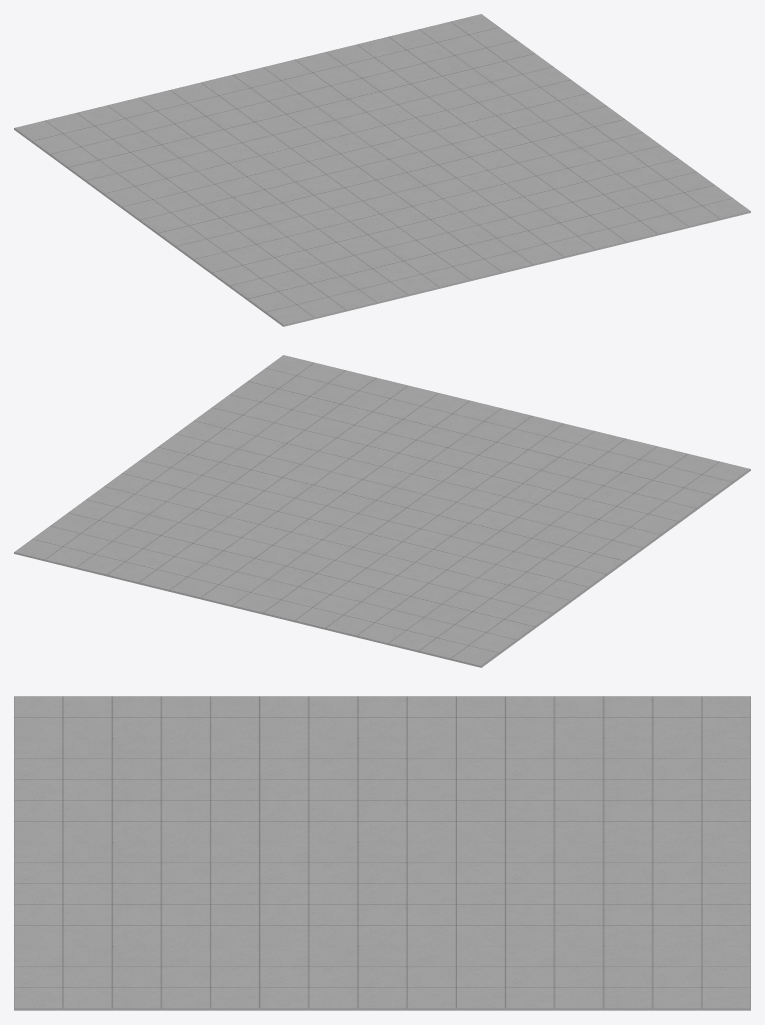
The model's file is floortiles.glb.
3 renders of one model, top to bottom at view 1: azimuth 30°, elevation 25°; view 2: azimuth 150°, elevation 25°; view 3: azimuth 270°, elevation 25°, orthographic. The views are drawn at different scales.
Visible parts, largest first — view 1: Ground-material, Ground-material.012, Ground-material.001, Ground-material.002, Ground-material.004, Ground-material.005, Ground-material.003, Ground-material.008, Ground-material.014; view 2: Ground-material.004, Ground-material.008, Ground-material.005, Ground-material.002, Ground-material, Ground-material.001, Ground-material.003, Ground-material.012, Ground-material.014; view 3: Ground-material.014, Ground-material.008, Ground-material.012, Ground-material.002, Ground-material.003, Ground-material, Ground-material.001, Ground-material.004, Ground-material.005.
Part boxes in pixels (bbox=[...]): Ground-material: bbox=[193, 221, 439, 326]; Ground-material.012: bbox=[505, 145, 750, 250]; Ground-material.001: bbox=[350, 183, 594, 288]; Ground-material.002: bbox=[103, 156, 348, 260]; Ground-material.004: bbox=[14, 90, 259, 194]; Ground-material.005: bbox=[170, 52, 414, 155]; Ground-material.003: bbox=[260, 118, 504, 221]; Ground-material.008: bbox=[326, 14, 570, 117]; Ground-material.014: bbox=[416, 80, 660, 183]; Ground-material.004: bbox=[325, 562, 571, 667]; Ground-material.008: bbox=[14, 486, 259, 591]; Ground-material.005: bbox=[170, 524, 414, 629]; Ground-material.002: bbox=[416, 497, 661, 601]; Ground-material: bbox=[505, 431, 750, 535]; Ground-material.001: bbox=[350, 393, 594, 496]; Ground-material.003: bbox=[260, 459, 504, 562]; Ground-material.012: bbox=[194, 355, 438, 458]; Ground-material.014: bbox=[104, 421, 348, 524]; Ground-material.014: bbox=[259, 904, 505, 1010]; Ground-material.008: bbox=[505, 904, 750, 1010]; Ground-material.012: bbox=[14, 904, 259, 1010]; Ground-material.002: bbox=[259, 696, 505, 800]; Ground-material.003: bbox=[259, 800, 505, 904]; Ground-material: bbox=[14, 696, 259, 800]; Ground-material.001: bbox=[14, 800, 259, 904]; Ground-material.004: bbox=[505, 696, 750, 800]; Ground-material.005: bbox=[505, 800, 750, 904].
Size of the model in its own units: 9.78 by 0.0324 by 9.77.
Materials: 1 (1 with a texture image).
